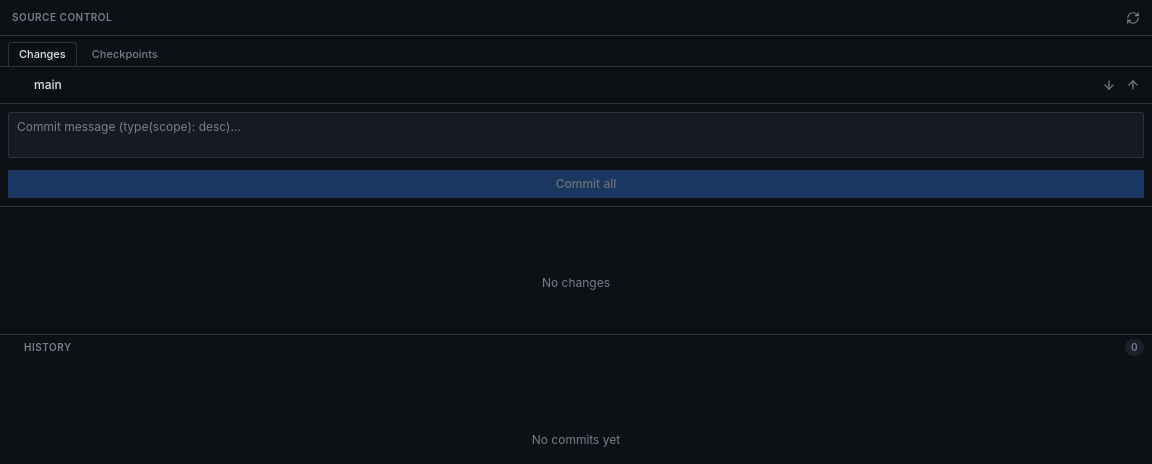
Test: GitPane — BranchPicker › lists all local branches in dropdown
This screenshot has width=1152, height=464.
Expected: the text "main" is shown, left=34, top=77, right=62, bottom=93
What coordinates should you click on to do the following:
click the button "main"
I would click on:
 (48, 85)
Its box is left=8, top=73, right=88, bottom=97.
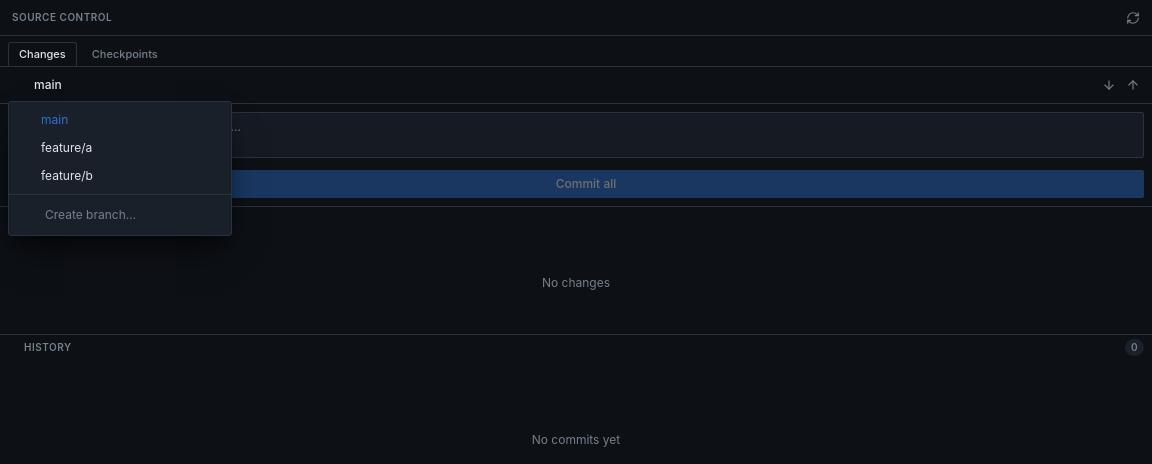
Now the button "feature/a" is shown, box left=9, top=134, right=231, bottom=162
Now the button "feature/b" is shown, box left=9, top=162, right=231, bottom=190
